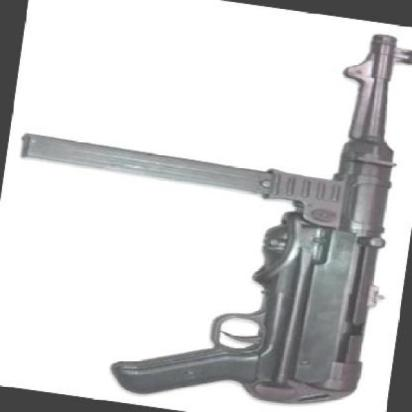Gun: (41, 0, 412, 412)
